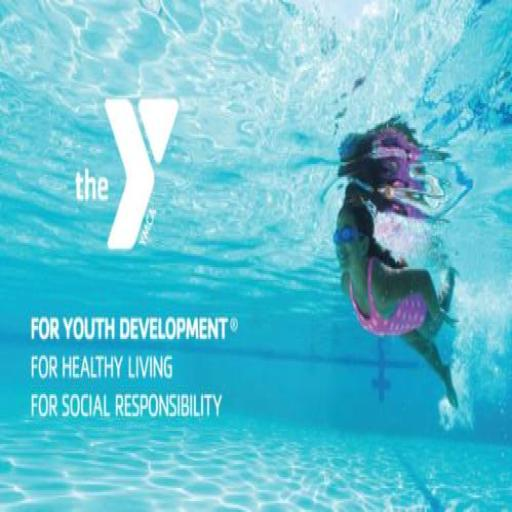swimming: (331, 188, 462, 414), (334, 114, 472, 227)
